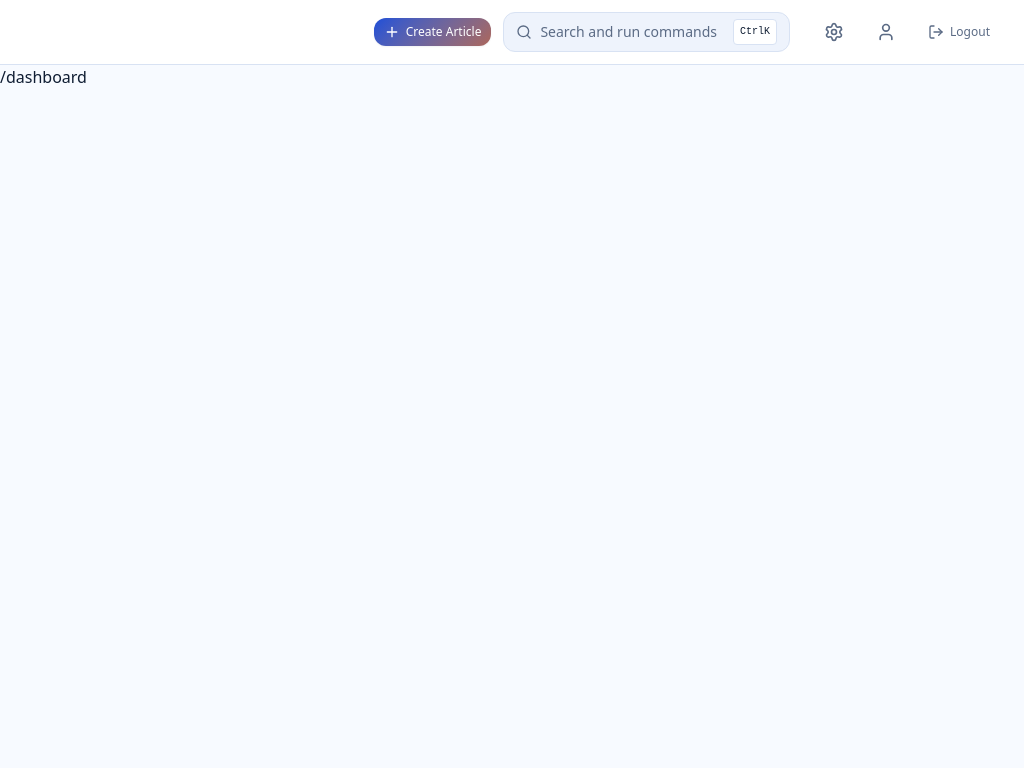
Test case: <TopBar /> › holds language and theme behind the settings gear
Click the button named "Language & theme": (834,32) [814,12,854,52]
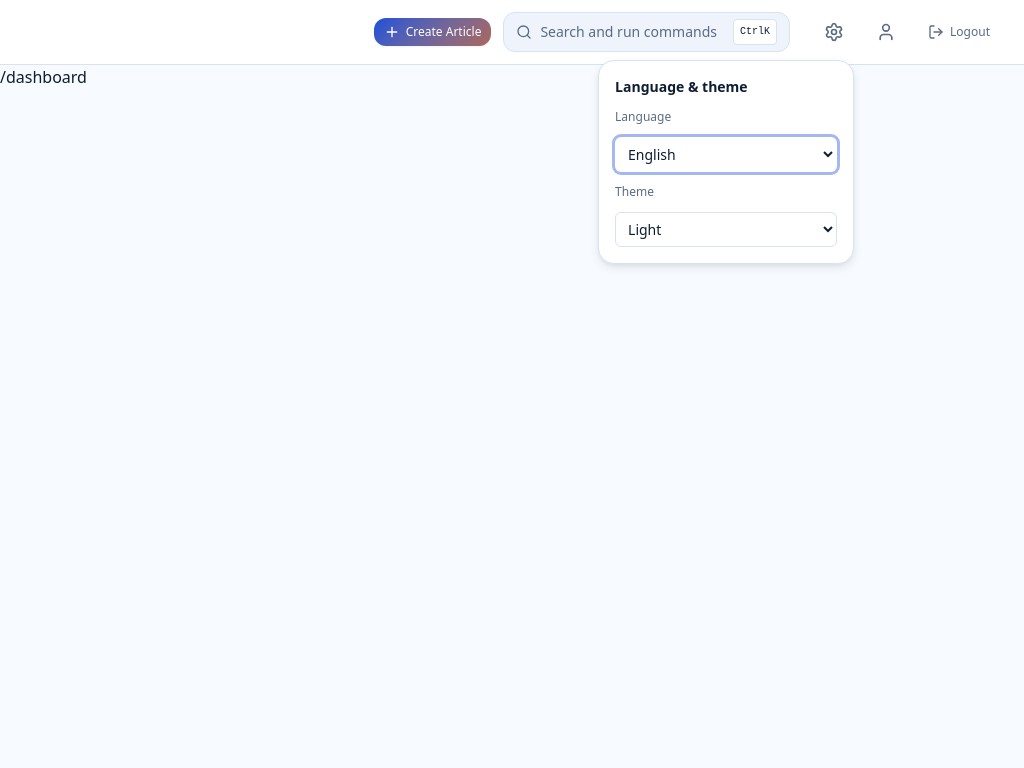
Now the number of dropdowns is 2, box [615,137,837,172]; [615,212,837,247]
